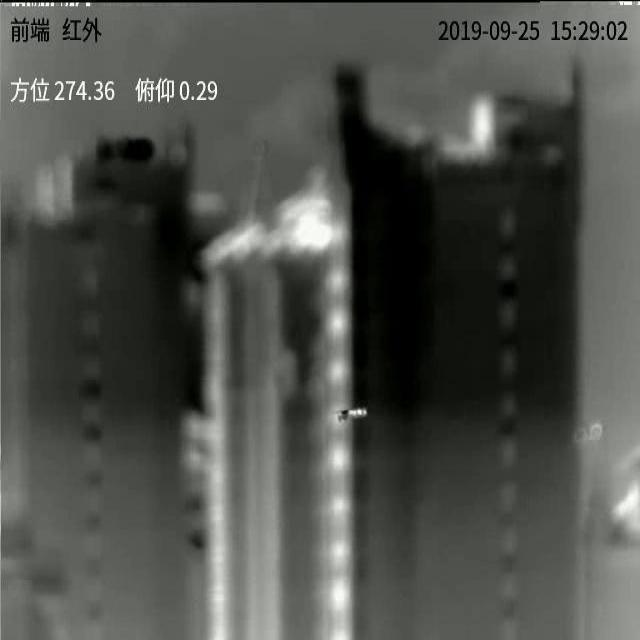drone: (337, 408, 368, 422)
